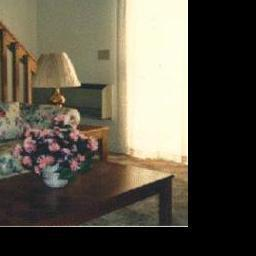Escaleras: (0, 0, 33, 102)
